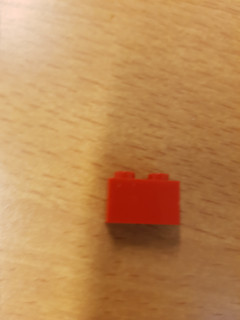1x2 red: (108, 171, 182, 225)
